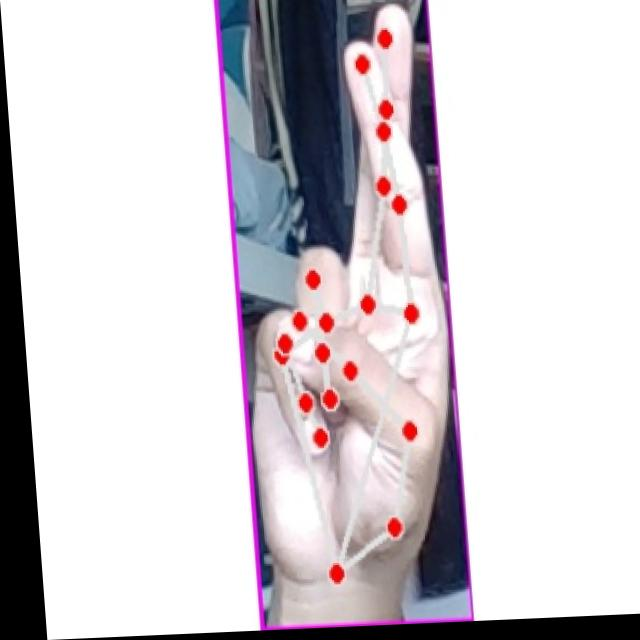R: (227, 3, 450, 608)
